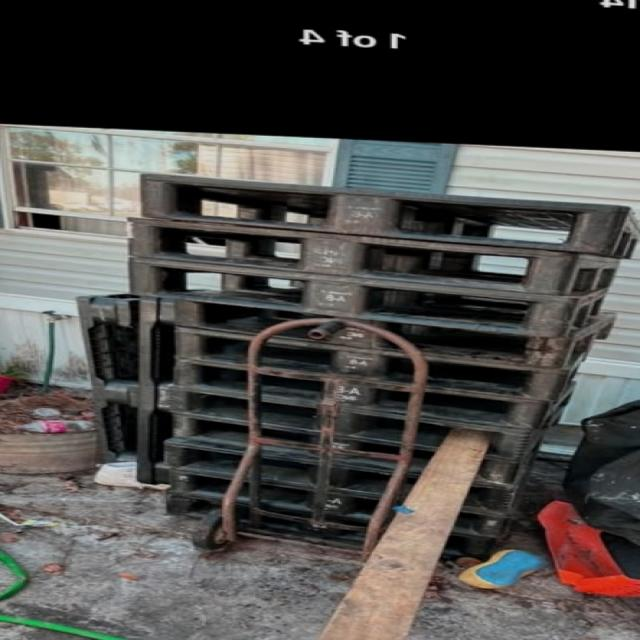non-igps: (129, 167, 640, 264), (119, 249, 617, 343), (111, 212, 629, 301), (166, 288, 624, 375), (165, 321, 598, 411), (147, 381, 582, 469), (160, 352, 586, 439), (142, 433, 532, 527), (143, 460, 525, 547), (166, 408, 538, 492), (152, 488, 513, 568), (66, 289, 150, 467), (124, 291, 192, 488)
